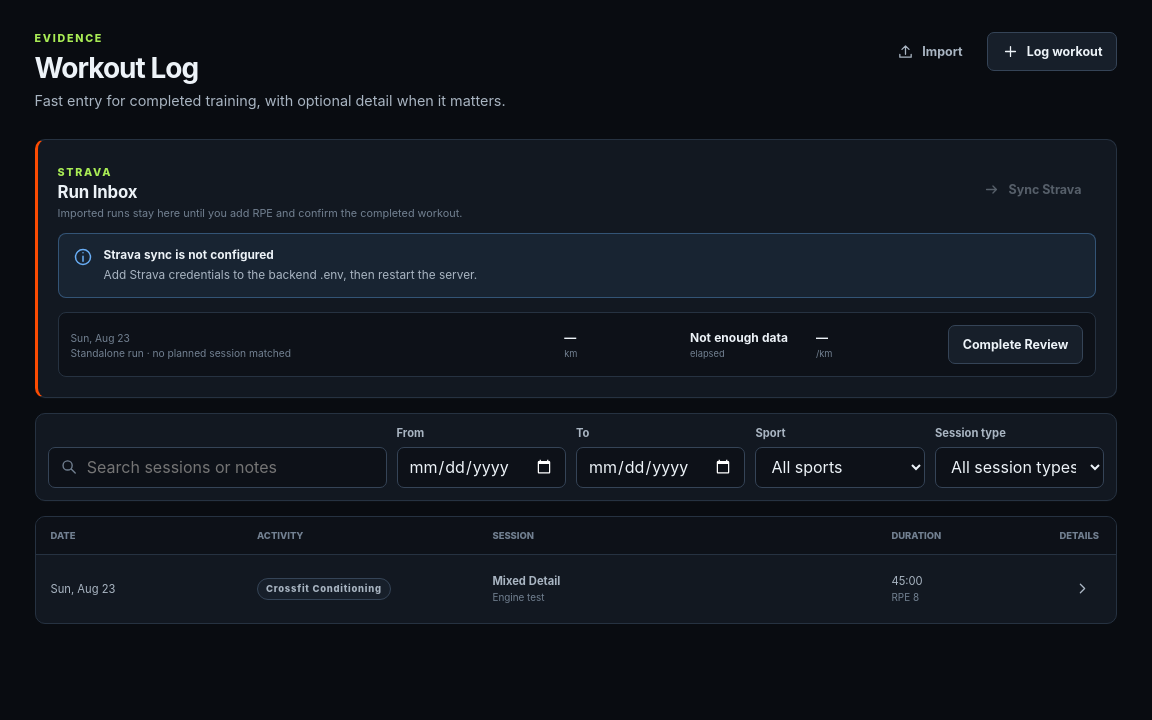
workout import degradation › shows returned running, climbing and strength detail in the session modal
Click the button named "View Mixed detail": {"x": 1083, "y": 589} [1059,569,1106,608]
(page scrolled)
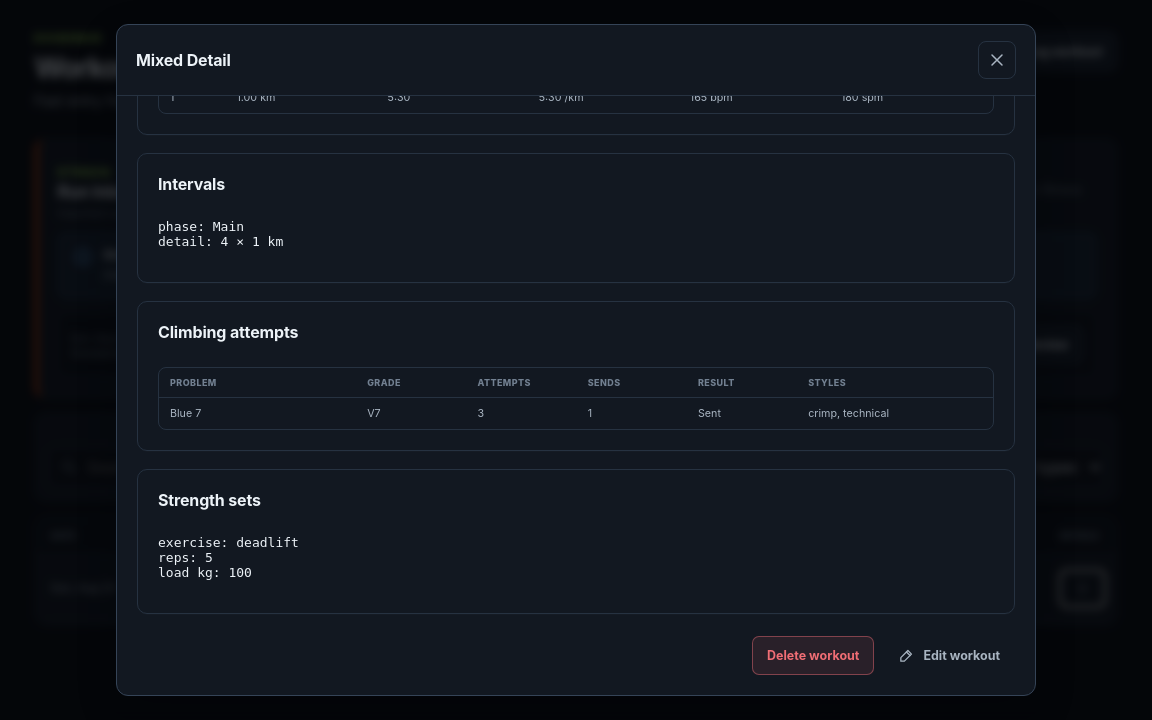
Result: the text "1.00 km" is shown at [236,96,275,104]
Result: the text "5:30 /km" is shown at [539,96,584,104]
Result: the text "165 bpm" is shown at [690,96,733,104]
